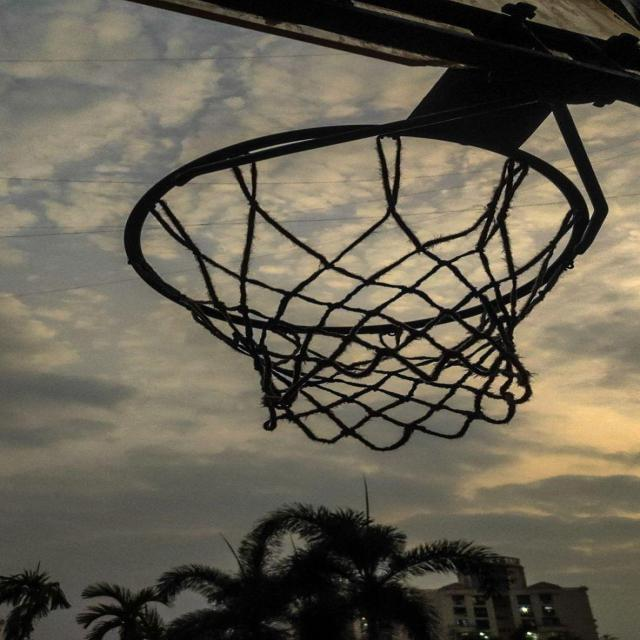hoop: (33, 130, 640, 450)
